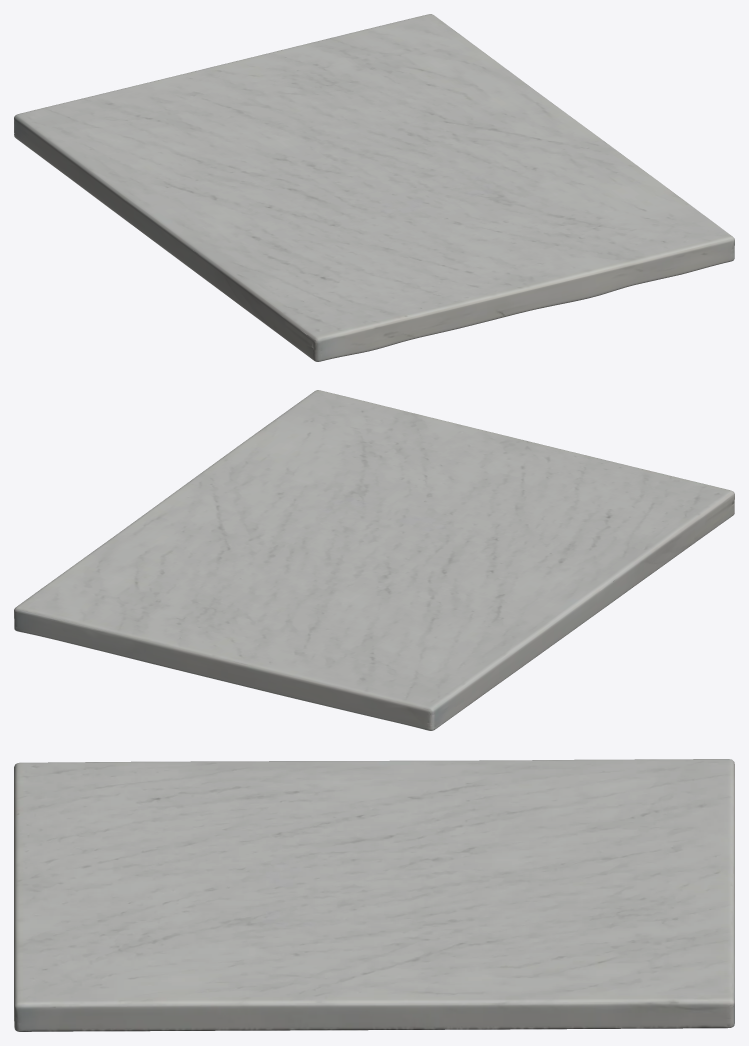
3 renders of one model, top to bottom at view 1: azimuth 30°, elevation 25°; view 2: azimuth 150°, elevation 25°; view 3: azimuth 270°, elevation 25°, orthographic. The views are drawn at different scales.
Visible parts, largest first — view 1: material; view 2: material; view 3: material.
Boxes of the visible parts, bbox=[...] form: material: bbox=[14, 14, 734, 361]; material: bbox=[14, 390, 734, 730]; material: bbox=[14, 759, 734, 1031].
Bounding box in the file's own units: 0.7519 × 0.0505 × 0.9416.
1 material, 1 textured.
